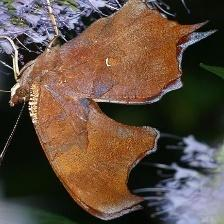butterfly: (11, 0, 214, 220)
